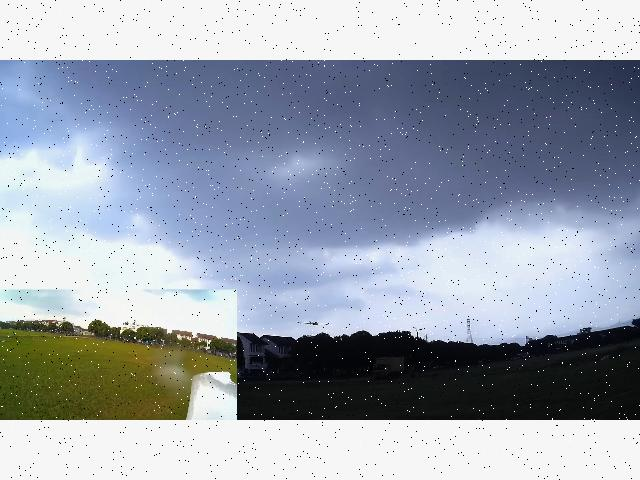Anti-Drone: (296, 320, 330, 326)
